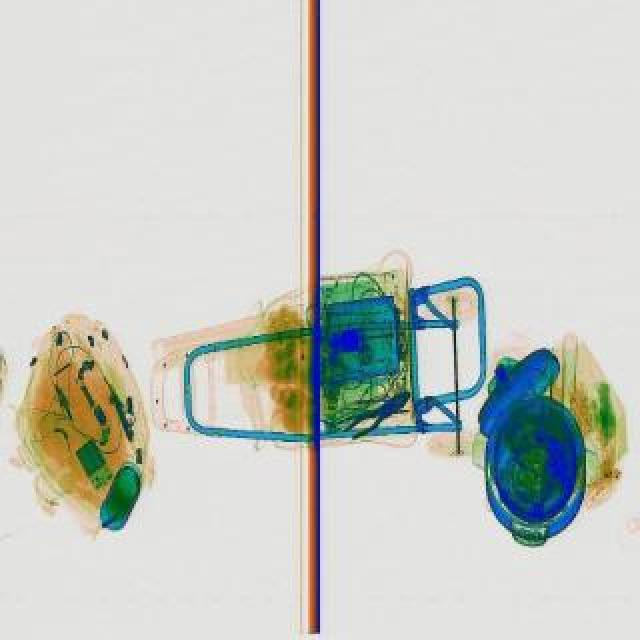wrench: (336, 386, 412, 442)
